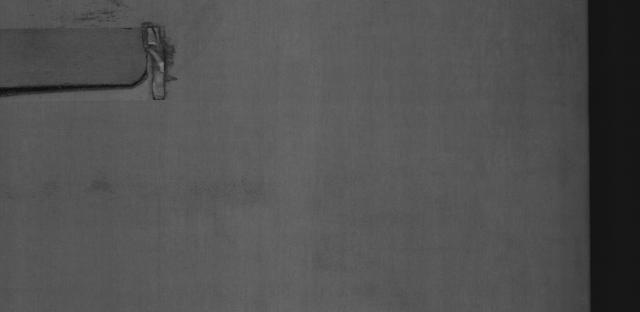rolled_pit: (0, 15, 224, 126)
